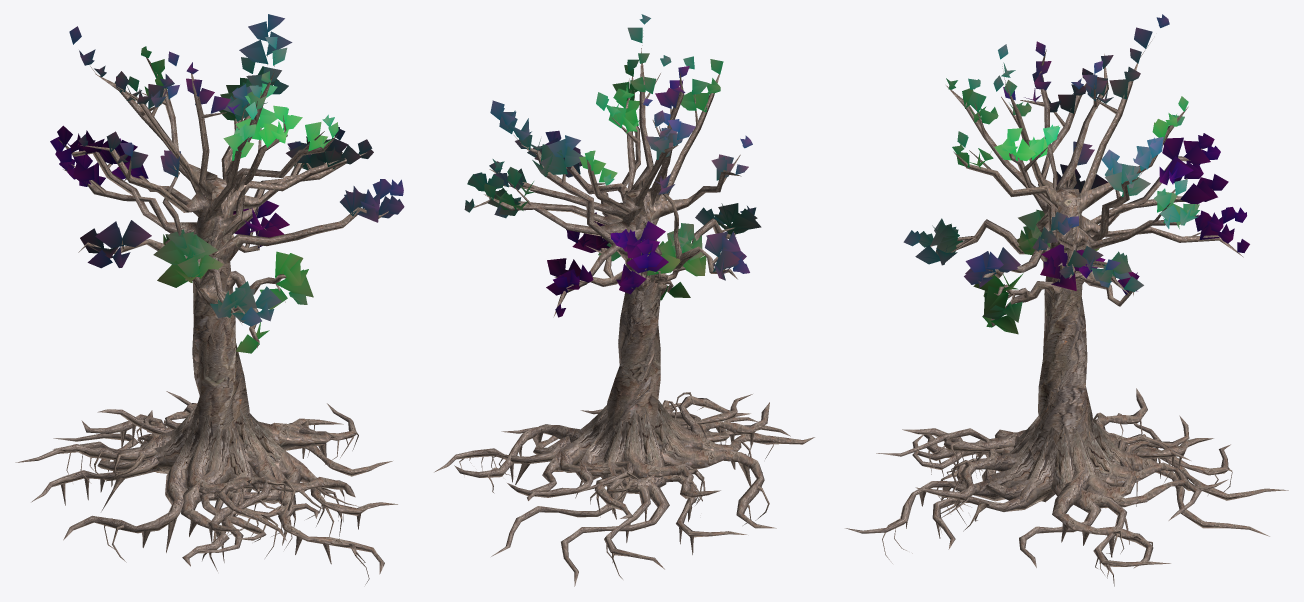
Rendered from tree_dead_lowpoly_big_2.fbx.
3 views of the same model, side by side, from view 1: azimuth 30°, elevation 25°; view 2: azimuth 150°, elevation 25°; view 3: azimuth 270°, elevation 25° (orthographic). The views are drawn at different scales.
Parts seen in each view (by area): view 1: bark04_0, branch06_1; view 2: bark04_0, branch06_1; view 3: bark04_0, branch06_1.
Boxes of the visible parts, x1,y1,x2,y2 form: bark04_0: (15,47,397,584); branch06_1: (50,14,404,353); bark04_0: (434,36,814,586); branch06_1: (464,14,761,317); bark04_0: (845,41,1288,586); branch06_1: (903,14,1249,334).
Bounding box in the file's own units: 1776 × 2743 × 2202.
1 material, 1 textured.
